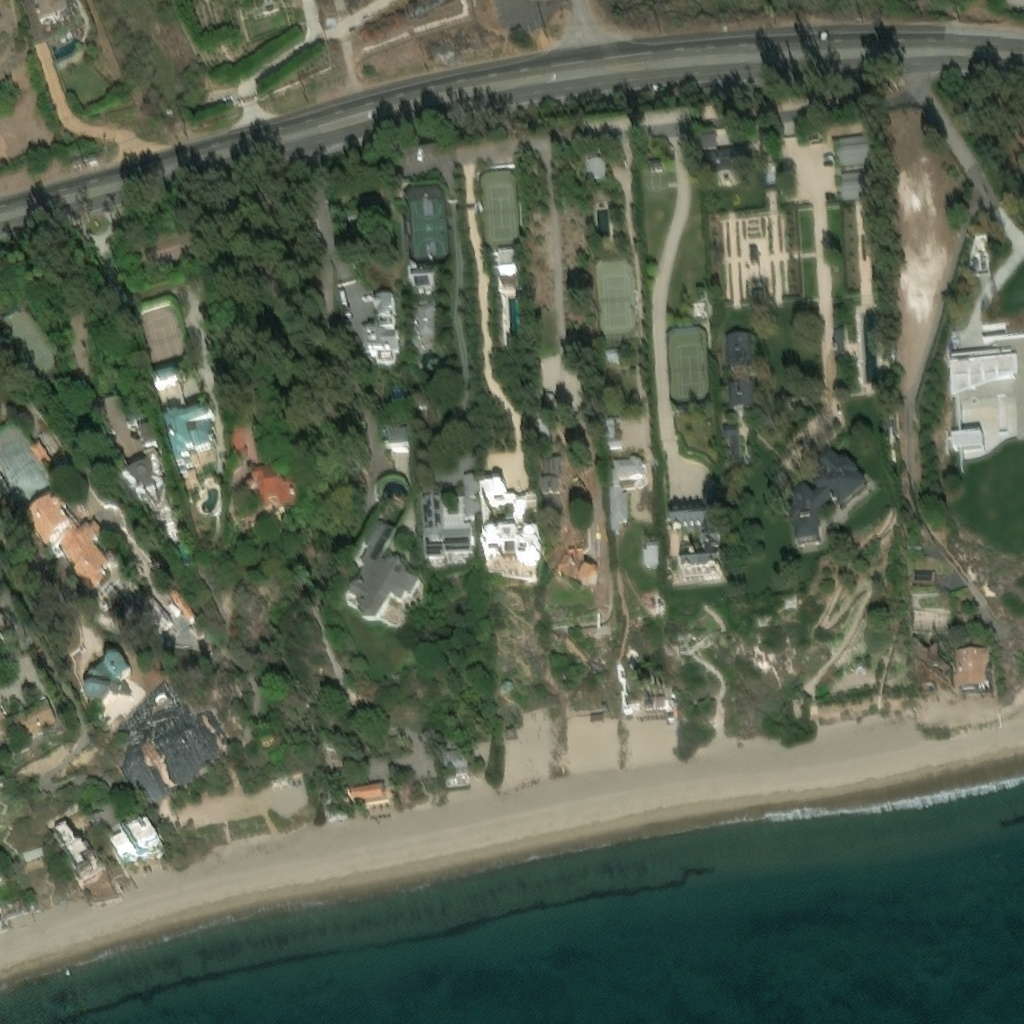0 no-damage: (948, 333, 1023, 460), (777, 451, 871, 548), (348, 524, 421, 628), (481, 482, 542, 583), (421, 476, 481, 572), (163, 407, 218, 488), (52, 509, 109, 586), (667, 499, 721, 569), (114, 449, 169, 514), (606, 455, 647, 534), (103, 816, 164, 863), (362, 296, 400, 369), (0, 696, 56, 745), (82, 652, 133, 705), (21, 490, 71, 543), (245, 468, 299, 516), (52, 822, 91, 877), (916, 639, 954, 693), (552, 544, 598, 586), (700, 132, 748, 170), (955, 648, 993, 693), (138, 591, 174, 633), (540, 455, 563, 519), (441, 747, 470, 788), (491, 248, 516, 294), (837, 133, 871, 166), (725, 330, 754, 365), (840, 170, 872, 200), (340, 782, 384, 803), (726, 379, 755, 408), (32, 0, 74, 20), (106, 585, 134, 615), (413, 302, 436, 337), (410, 267, 436, 296), (720, 423, 739, 461), (382, 428, 414, 448), (152, 370, 182, 391), (584, 158, 607, 184), (641, 688, 665, 712), (642, 539, 661, 569), (228, 427, 247, 457), (19, 849, 46, 868), (911, 569, 934, 585), (537, 416, 551, 442), (955, 613, 976, 630), (141, 426, 157, 448), (0, 617, 15, 639), (584, 663, 606, 677), (270, 776, 288, 789), (605, 346, 617, 361), (589, 711, 603, 723), (505, 728, 519, 740), (322, 12, 336, 24), (602, 426, 615, 438), (607, 437, 621, 448), (906, 544, 922, 553), (651, 157, 662, 169), (605, 414, 615, 426), (627, 697, 638, 705), (601, 701, 607, 707)
